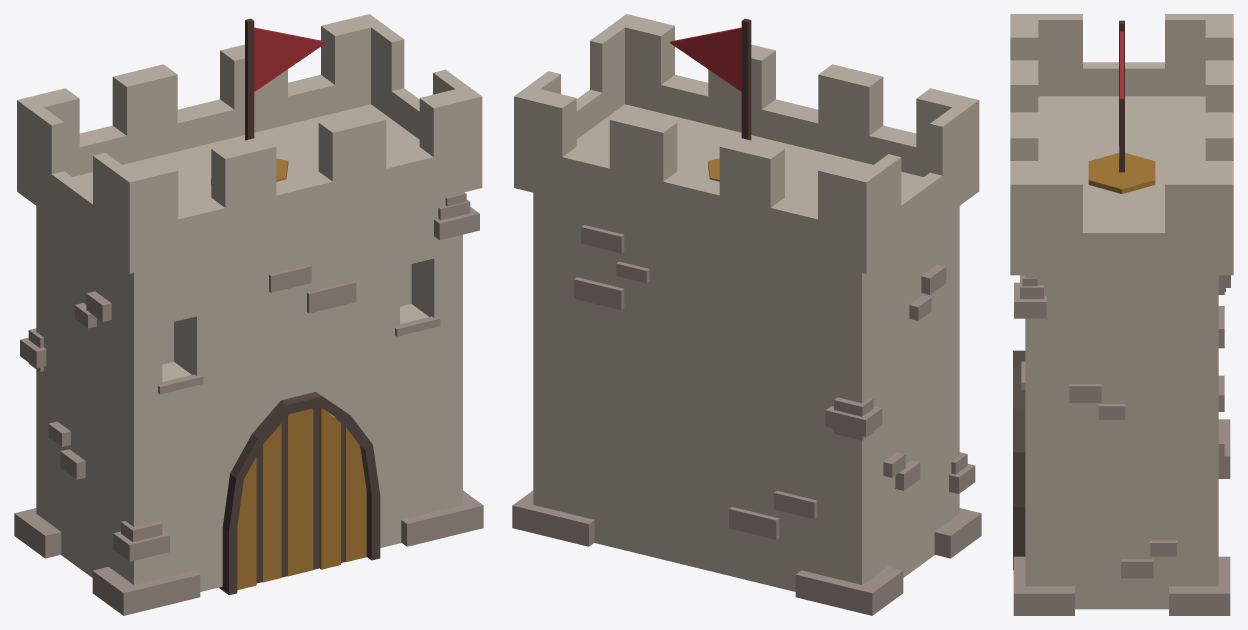
File: Castle.fbx
3 views of the same model, side by side, from view 1: azimuth 30°, elevation 25°; view 2: azimuth 150°, elevation 25°; view 3: azimuth 270°, elevation 25° (orthographic).
Parts seen in each view (by area): view 1: Castle_Geo; view 2: Castle_Geo; view 3: Castle_Geo.
Part boxes in pixels (x1,y1,x2,y2): Castle_Geo: (14,14,483,615); Castle_Geo: (512,14,981,615); Castle_Geo: (1010,14,1233,615).
Size of the model in its own units: 165 by 226 by 89.21.
